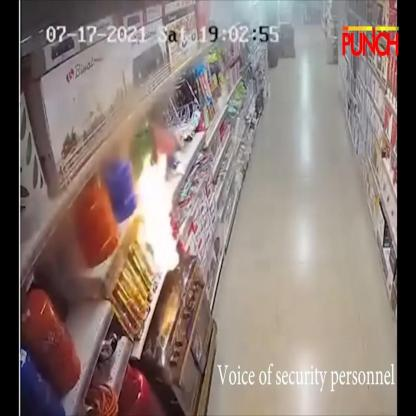fire: (131, 152, 180, 269)
